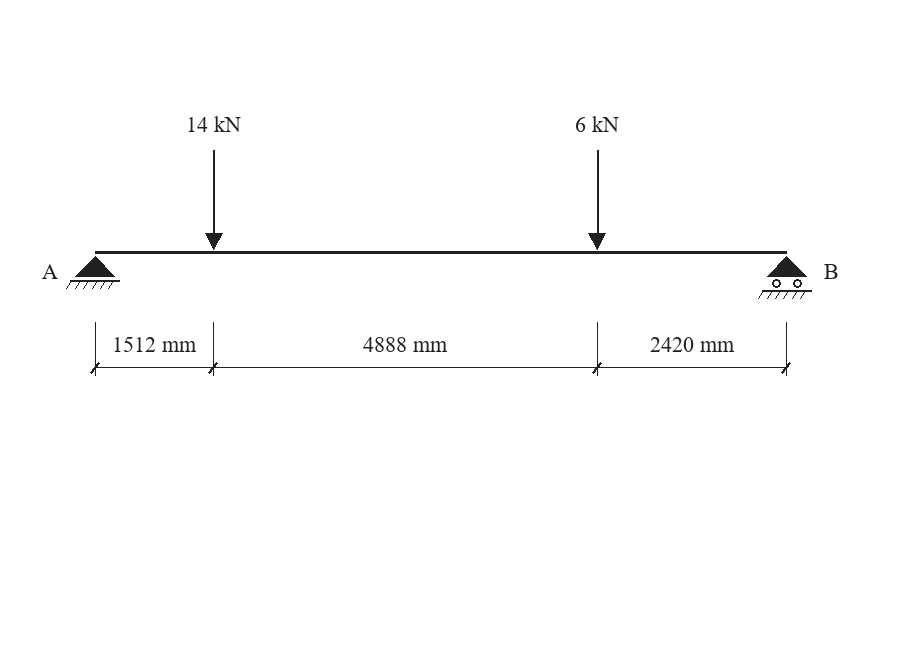pin_support: (66, 256, 120, 289)
point_load: (205, 150, 223, 250), (588, 150, 606, 250)
roller_support: (758, 256, 812, 299)
